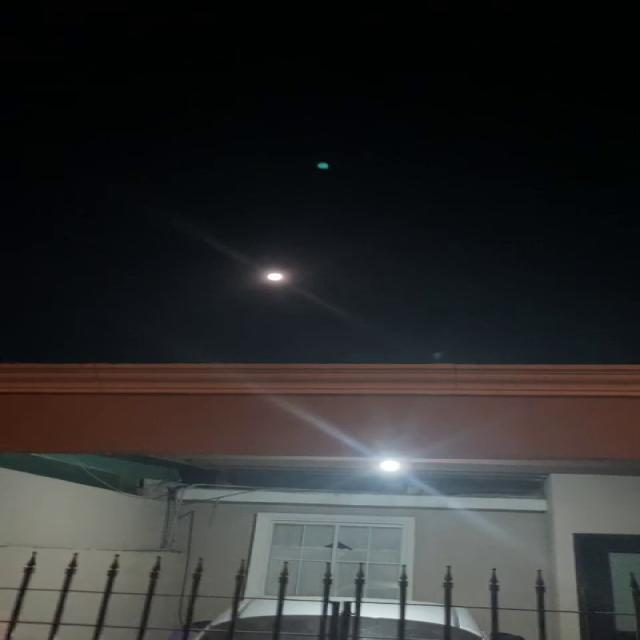moon: (256, 265, 292, 283)
